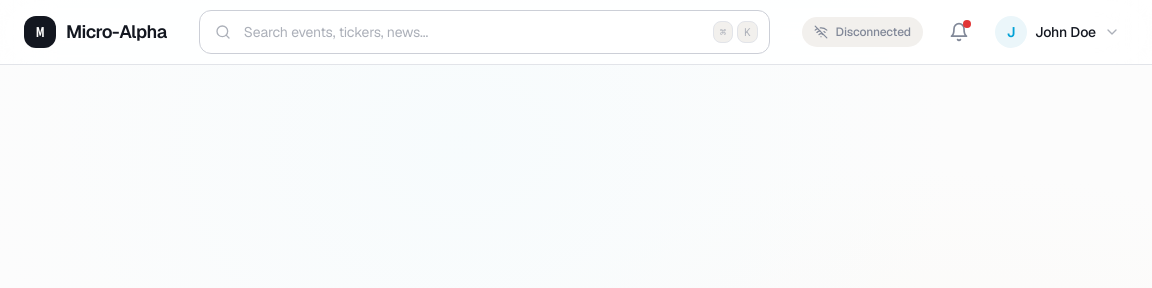
Scenario: Header › user menu › opens user menu on click
The width and height of the screenshot is (1152, 288).
Expected: the text "Settings" is not shown
Click user button
Click the button "J John Doe" at (1057, 32), box x1=987 y1=8 x2=1128 y2=56
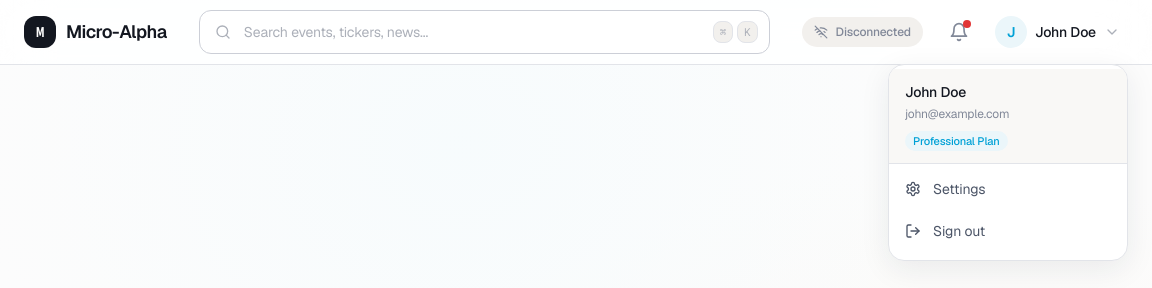
Now the link "Settings" is shown, box x1=905 y1=180 x2=985 y2=198
Now the button "Sign out" is shown, box x1=889 y1=210 x2=1127 y2=252
